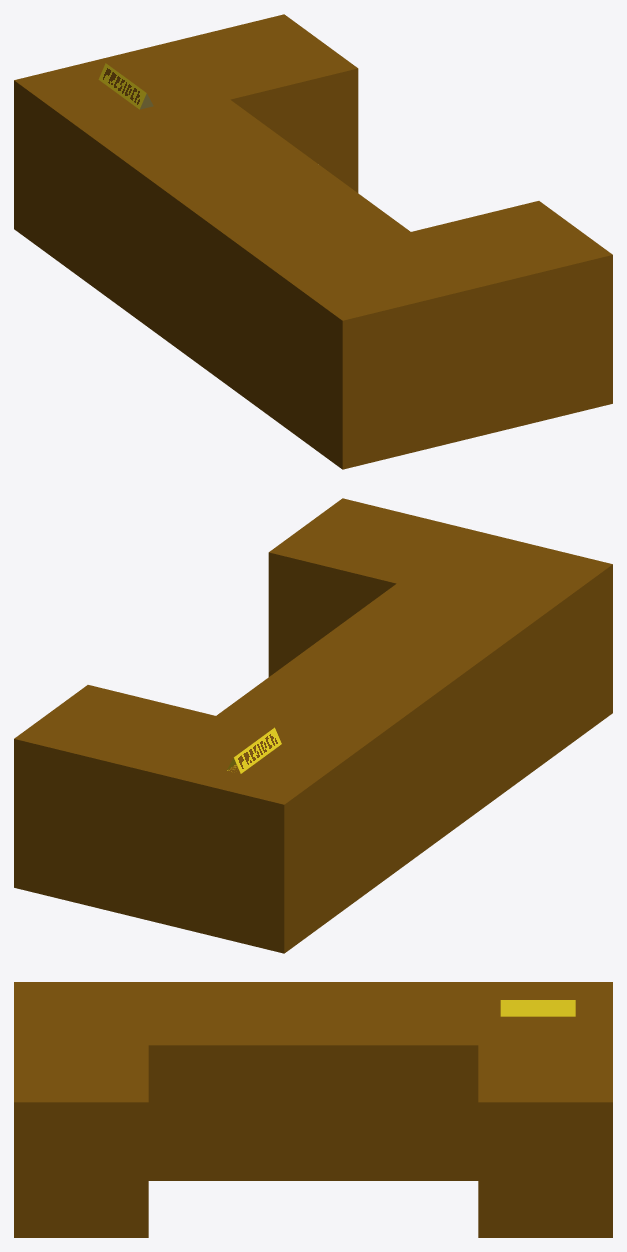
File: escritorio.glb
The picture shows the model from 3 angles, top to bottom: view 1: azimuth 30°, elevation 25°; view 2: azimuth 150°, elevation 25°; view 3: azimuth 270°, elevation 25°; orthographic projection. The views are drawn at different scales.
Parts seen in each view (by area): view 1: cuboid (×2); view 2: cuboid (×2); view 3: cuboid (×2).
Boxes of the visible parts, x1=… form: cuboid (×2): x1=14, y1=14, x2=612, y2=469; cuboid (×2): x1=14, y1=498, x2=612, y2=953; cuboid (×2): x1=14, y1=982, x2=612, y2=1237.
Size of the model in its own units: 1.19 by 0.6875 by 2.5.
2 materials, 2 textured.
